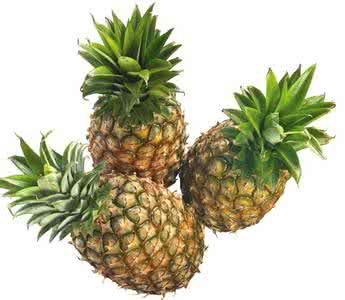pineapple: (12, 144, 214, 295), (188, 71, 325, 231), (76, 10, 191, 189)
